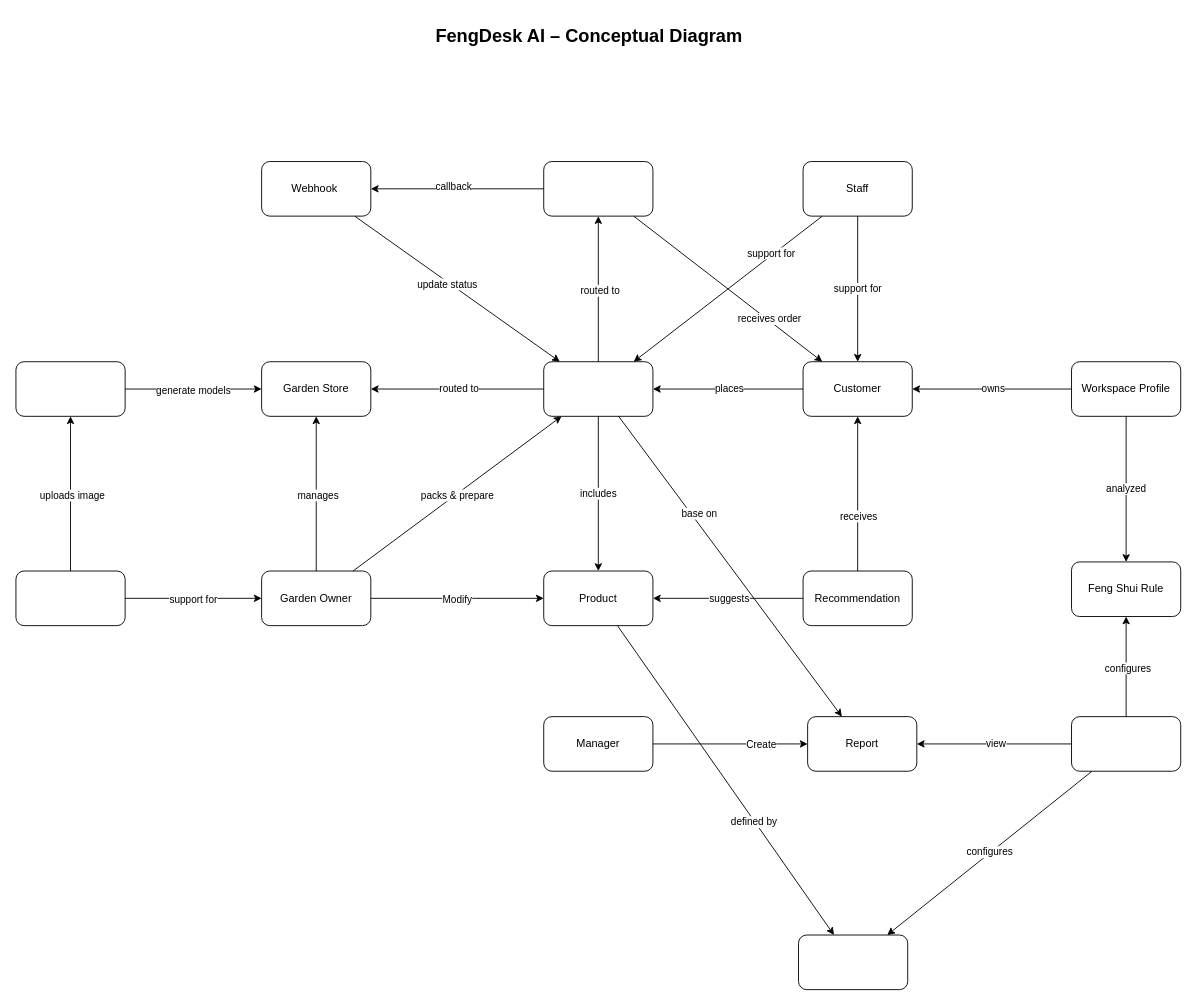
Some shapes in this 1197 by 1006 pixel diagram are drawn without their labels. The shapes that lost their labels are listed below. From the top down, each one's box as (x1, y1, x2, y2) in pixels, then its label:
(543, 161, 653, 216): Shipper (3rd Party Logistics)
(15, 361, 125, 416): 3D AI API
(543, 361, 653, 416): Order
(15, 570, 125, 626): Garden Staff
(1071, 716, 1181, 771): Admin
(798, 934, 908, 990): Tag
